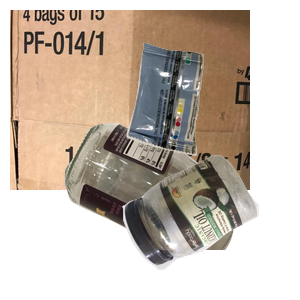cardboard: (10, 10, 250, 190)
glass: (62, 120, 300, 300)
plastic: (120, 152, 300, 300)
trash: (124, 40, 300, 188)
